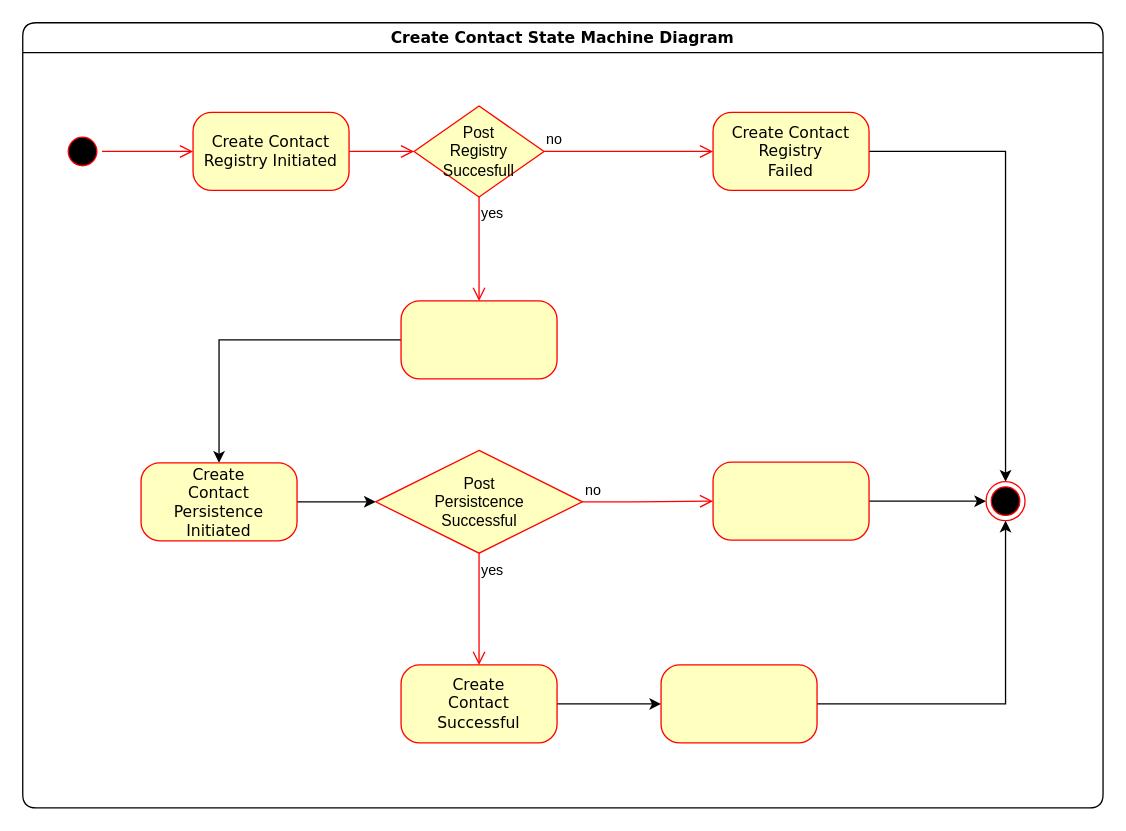
Image size: 1126x831. Some labels were removed from this diagram. The centre of each missing label's shape, as x and y in pixels:
"Create Contact END" goes at (x=738, y=703).
"Create Contact Failed" goes at (x=790, y=500).
"Create Contact Registry Successful" goes at (x=478, y=339).
